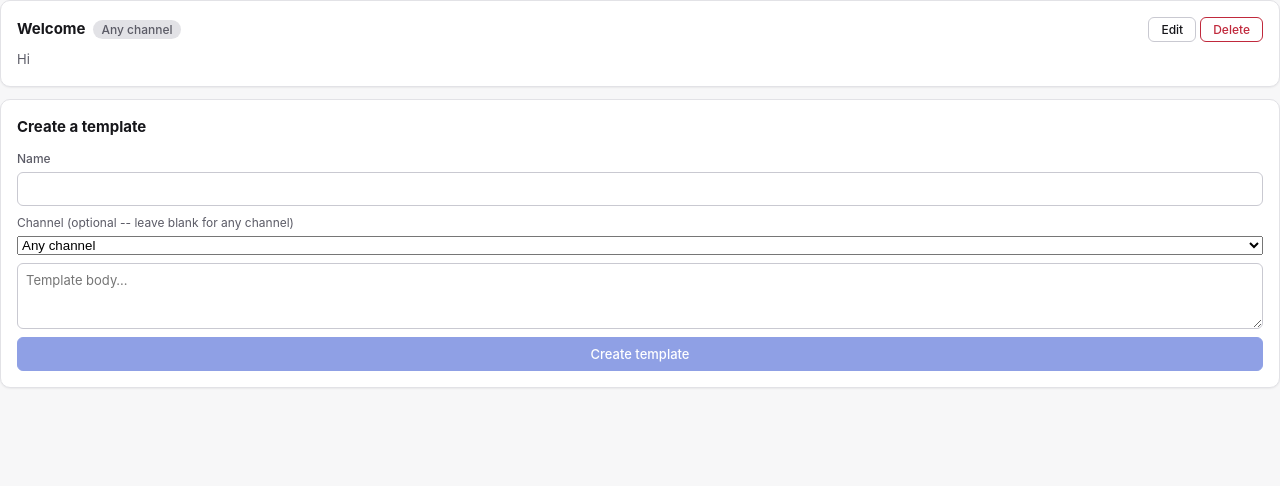
it: form controls have accessible names (UI-8) › conversations: an existing template's edit textarea is named after that template
Expected: the heading "Welcome" is shown, [17, 18, 86, 41]
Click the button "Edit" at point(1172, 30), box [1148, 17, 1196, 42]
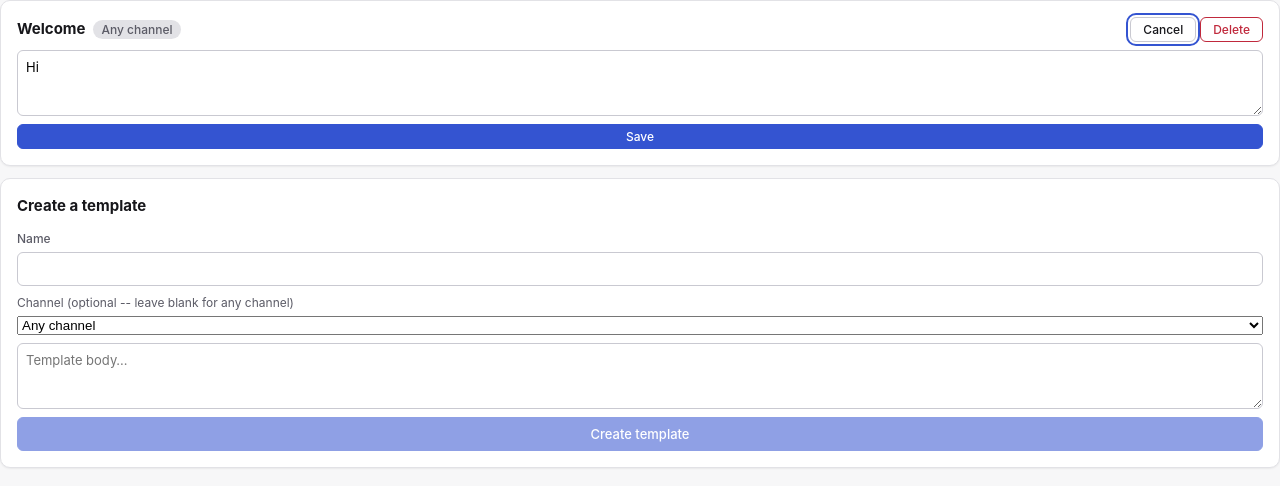
Result: the text box named "Body of template Welcome" is shown at [17, 50, 1263, 116]
